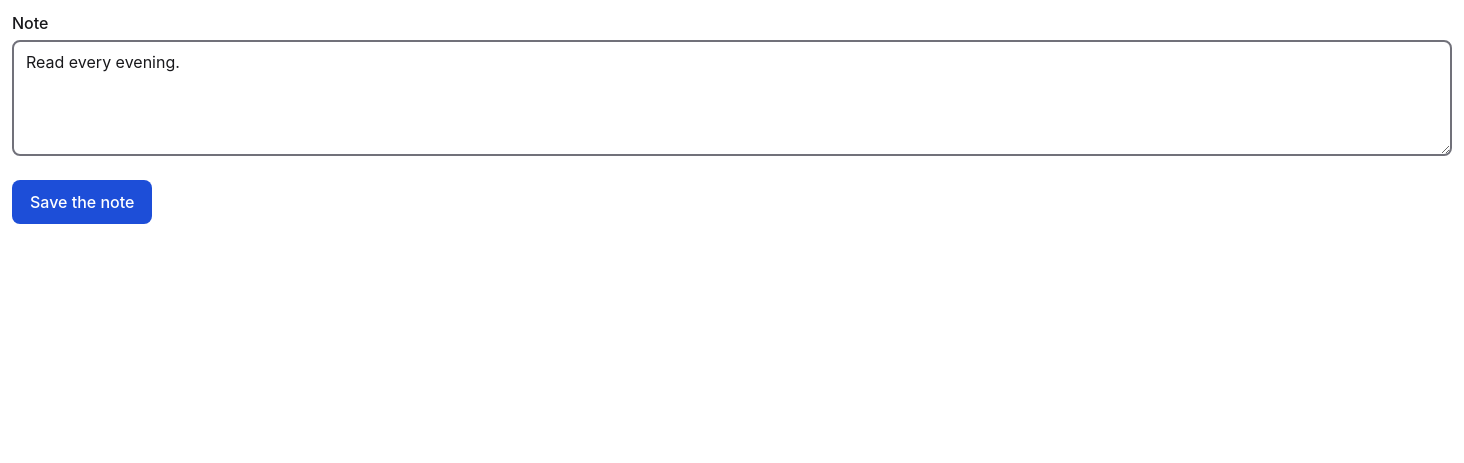
ChangedElsewhereSample › [CL-IHM-18] shows the current version beside the input, which stays to be applied again
Step 1. Type " And at noon." into the text box labelled "Note" → (732, 98), box [12, 40, 1452, 156]
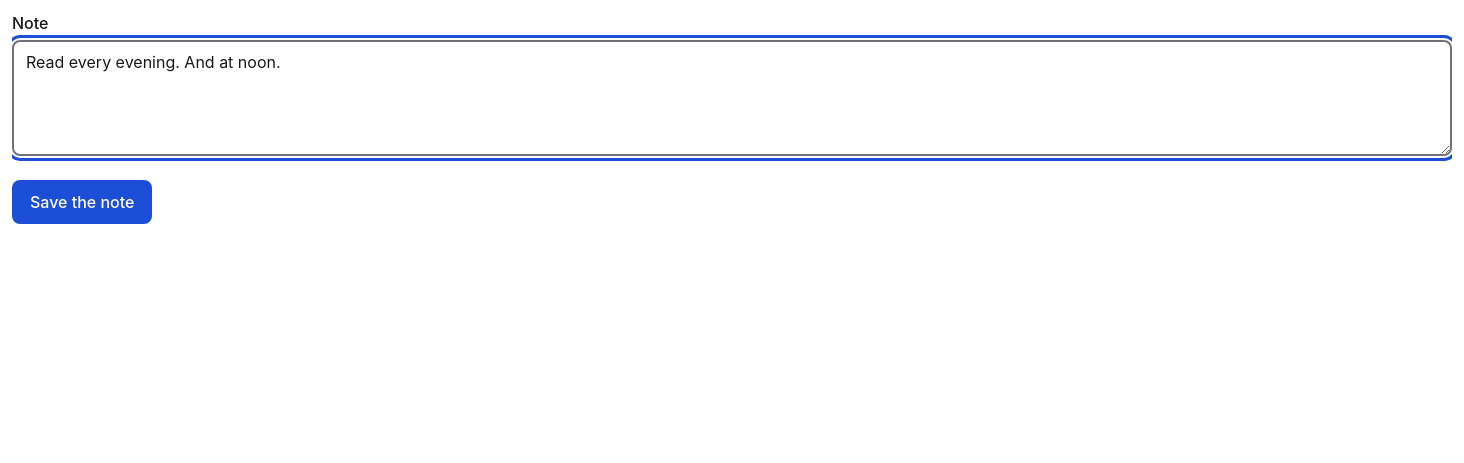
Step 2. Click the button "Save the note" → (82, 202), box [12, 180, 152, 224]
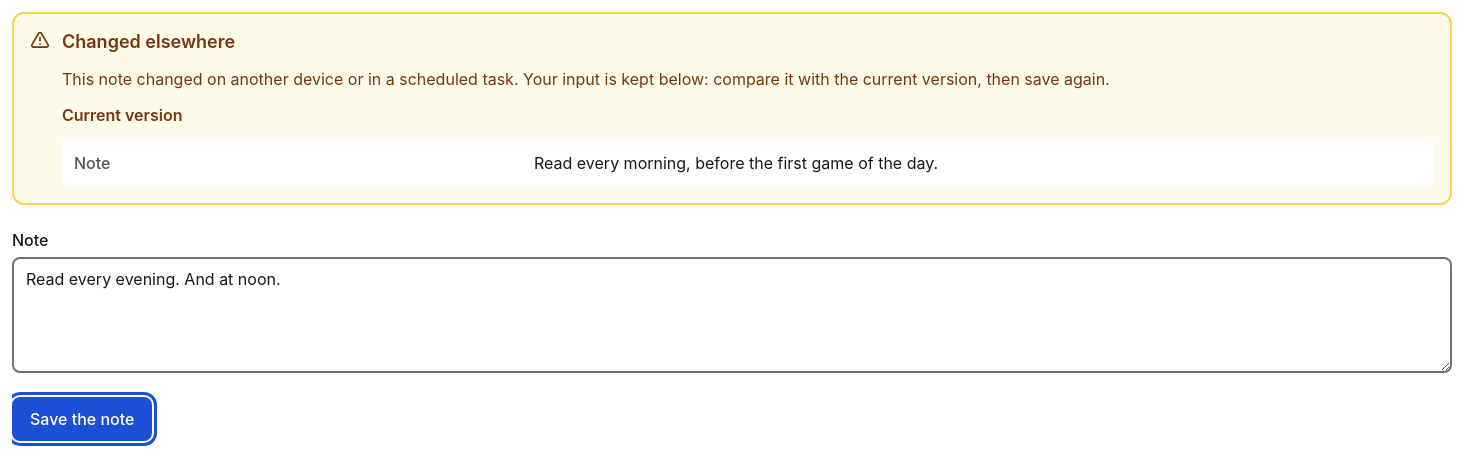
Check: the text box labelled "Note" holds "Read every evening. And at noon.", box [12, 257, 1452, 373]
Check: the text "Read every morning, before the first game of the day." is shown, box [534, 153, 938, 173]
